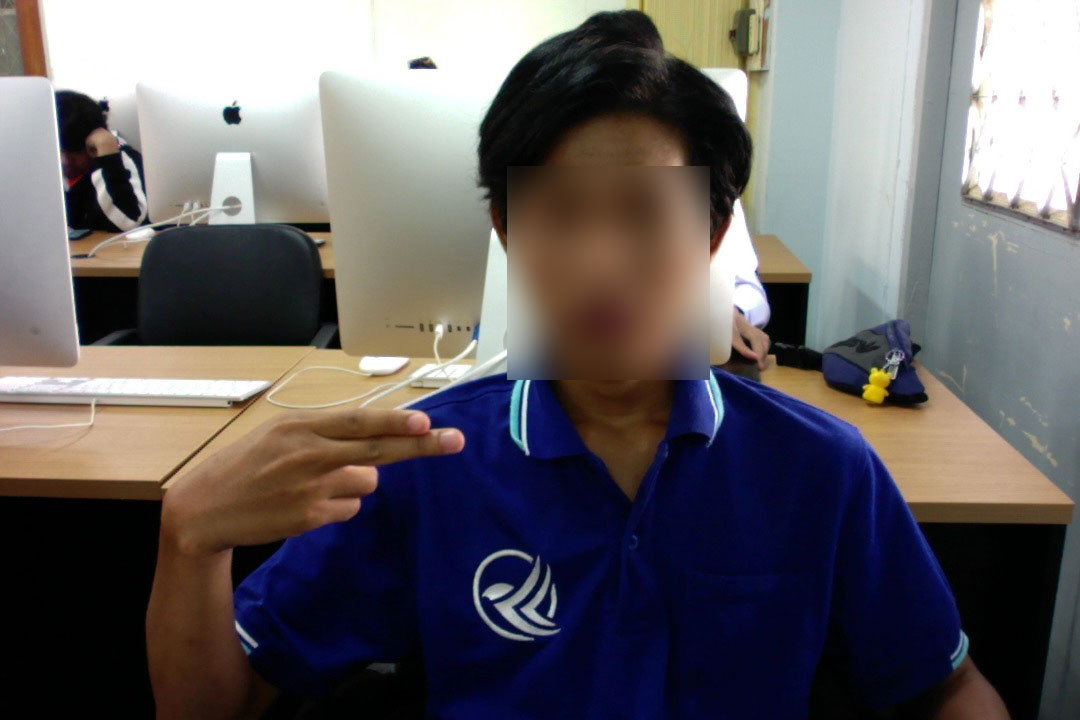hor: (145, 401, 471, 562)
